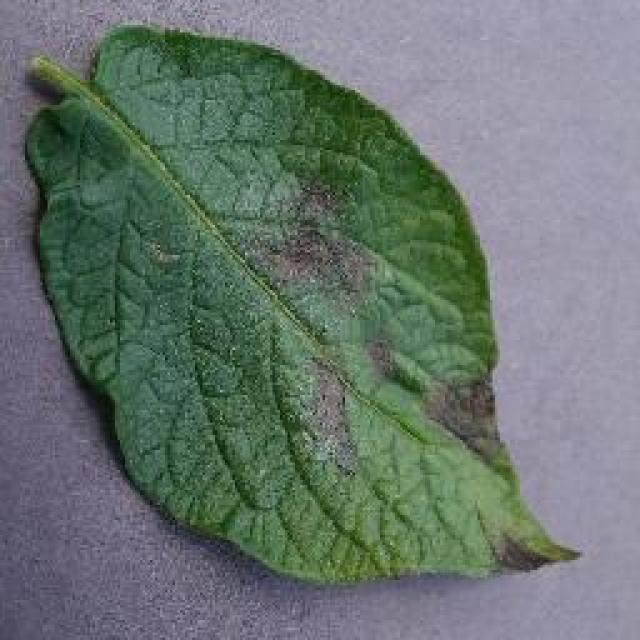Potato___Late_blight: (13, 24, 588, 588)
